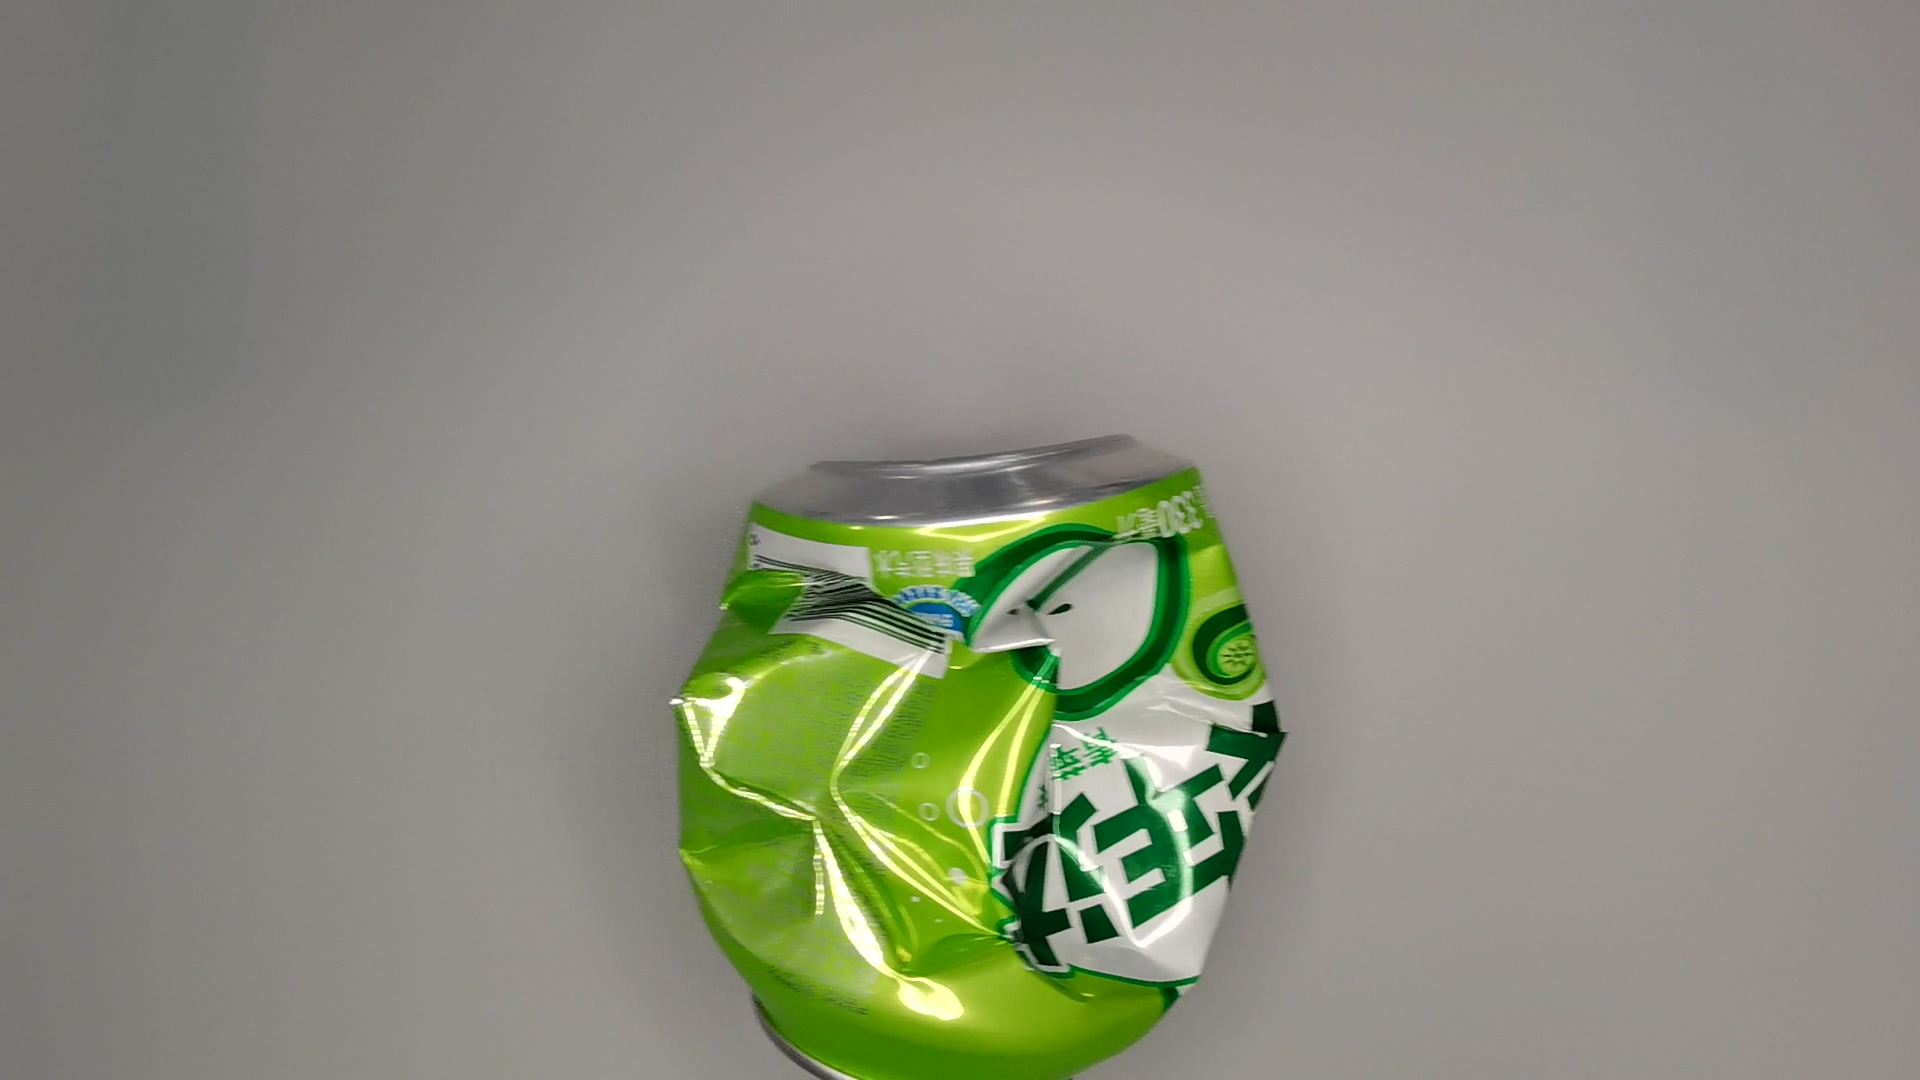can: (659, 431, 1288, 1080)
